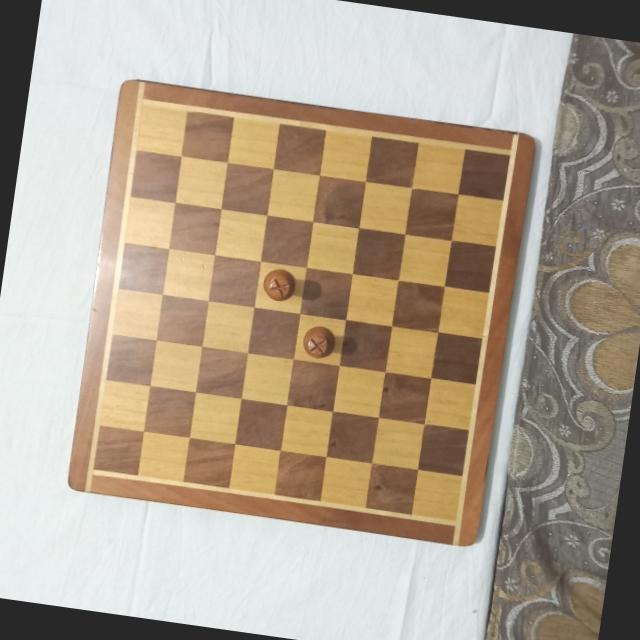white-rook: (298, 321, 338, 362), (260, 266, 300, 306)
